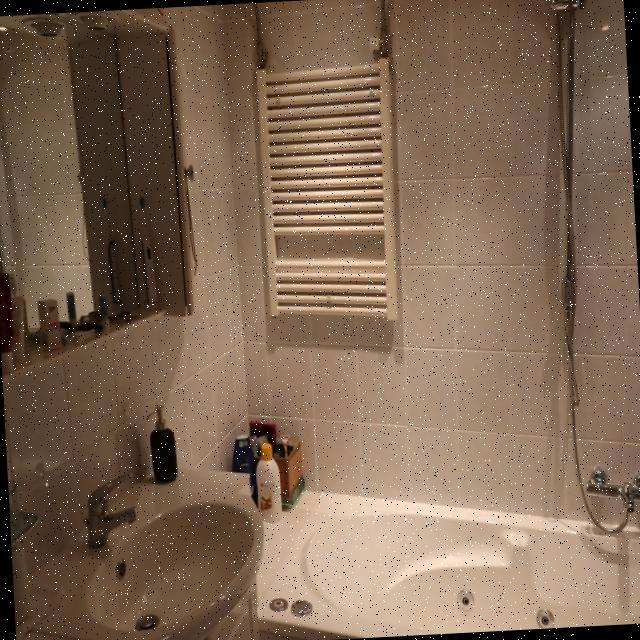bath: (253, 463, 640, 640)
designradiator: (252, 0, 404, 327)
wastafel: (22, 463, 270, 640), (176, 573, 261, 640)
